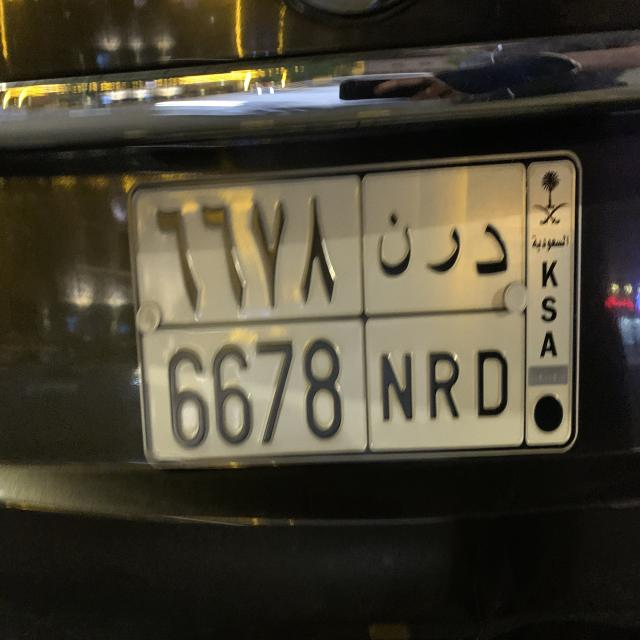license_plate: (121, 144, 587, 476)
